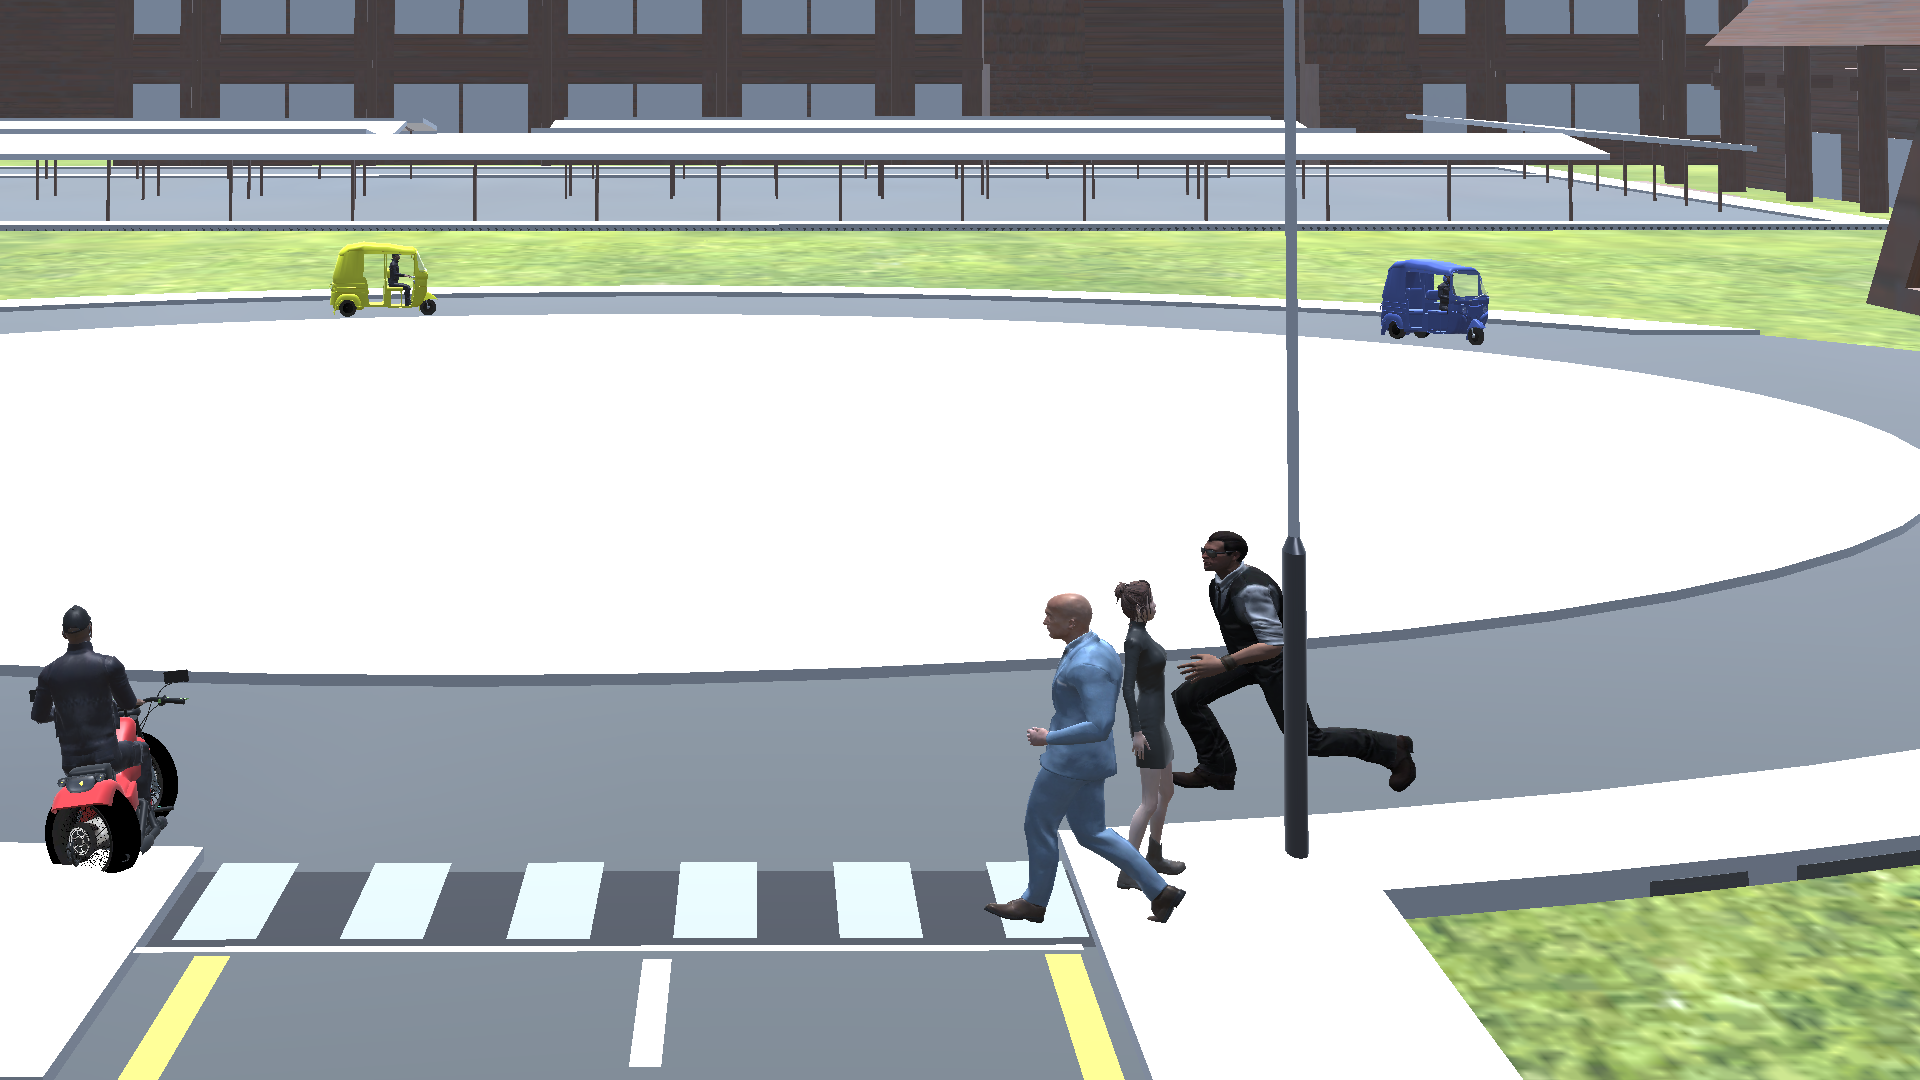pedestrian: (993, 587, 1173, 941), (1183, 526, 1286, 801), (1111, 567, 1192, 893)
